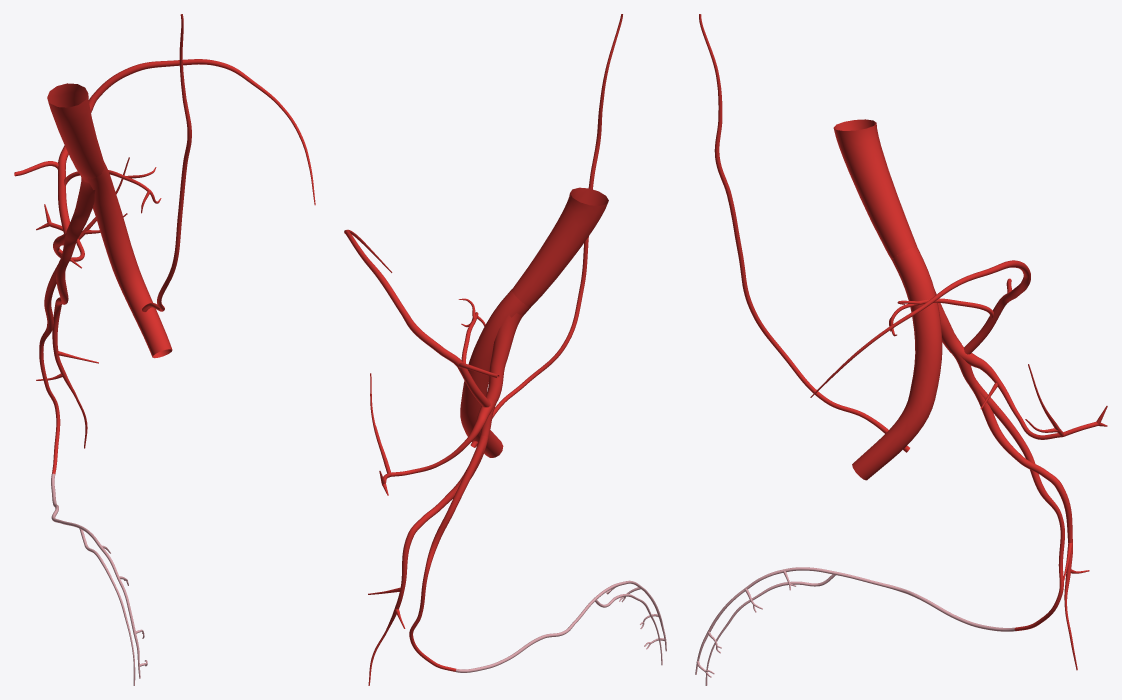
Rendered from circulatorio-common-iliac-artery-l.glb.
3 views of the same model, side by side, from view 1: azimuth 30°, elevation 25°; view 2: azimuth 150°, elevation 25°; view 3: azimuth 270°, elevation 25° (orthographic). The views are drawn at different scales.
Parts seen in each view (by area): view 1: External iliac artery.l, Common iliac artery.l, Iliacus branch of iliolumbar artery.l, Inferior epigastric artery.l, Inferior gluteal artery.l, Internal pudendal artery.l, Dorsal artery of penis.l, Internal iliac artery.l, Superior gluteal artery.l, Iliolumbar artery.l, Lumbar branch of iliolumbar artery.l, Deep artery of penis.l; view 2: Common iliac artery.l, External iliac artery.l, Inferior epigastric artery.l, Internal pudendal artery.l, Inferior gluteal artery.l, Iliacus branch of iliolumbar artery.l, Internal iliac artery.l, Dorsal artery of penis.l, Superior gluteal artery.l; view 3: External iliac artery.l, Common iliac artery.l, Inferior epigastric artery.l, Inferior gluteal artery.l, Dorsal artery of penis.l, Internal pudendal artery.l, Iliacus branch of iliolumbar artery.l, Superior gluteal artery.l, Lumbar branch of iliolumbar artery.l.
Part boxes in pixels (x1,y1,x2,y2): External iliac artery.l: (81,162,172,358); Common iliac artery.l: (47,83,104,178); Iliacus branch of iliolumbar artery.l: (57,59,315,205); Inferior epigastric artery.l: (142,14,191,311); Inferior gluteal artery.l: (36,260,98,448); Internal pudendal artery.l: (39,263,66,474); Dorsal artery of penis.l: (51,473,147,678); Internal iliac artery.l: (66,167,104,240); Superior gluteal artery.l: (36,157,129,268); Iliolumbar artery.l: (58,169,70,234); Lumbar branch of iliolumbar artery.l: (64,167,161,213); Deep artery of penis.l: (79,528,135,685); Common iliac artery.l: (512,187,608,307); External iliac artery.l: (460,289,530,457); Inferior epigastric artery.l: (470,14,622,447); Internal pudendal artery.l: (409,437,484,671); Inferior gluteal artery.l: (368,435,488,685); Iliacus branch of iliolumbar artery.l: (344,229,462,369); Internal iliac artery.l: (486,295,523,400); Dorsal artery of penis.l: (455,580,666,672); Superior gluteal artery.l: (370,373,488,495); External iliac artery.l: (852,247,942,480); Common iliac artery.l: (833,119,917,259); Inferior epigastric artery.l: (699,14,909,452); Inferior gluteal artery.l: (969,381,1089,670); Dorsal artery of penis.l: (695,567,1015,677); Internal pudendal artery.l: (971,383,1064,630); Iliacus branch of iliolumbar artery.l: (810,260,1030,397); Superior gluteal artery.l: (969,355,1107,439); Lumbar branch of iliolumbar artery.l: (889,298,993,336).
Bounding box in the file's own units: 0.1275 × 0.3173 × 0.1709.
